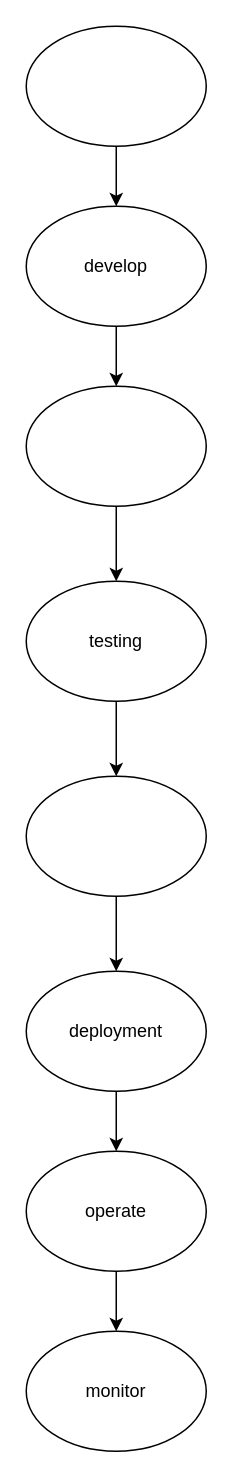
Some shapes in this 233 by 1478 pixel diagram are drawn without their labels. Here are the shapes that lost their labels. From the top down, the centre of each, then its label:
At (x=115, y=85): "plan".
At (x=115, y=445): "built".
At (x=115, y=835): "release".
